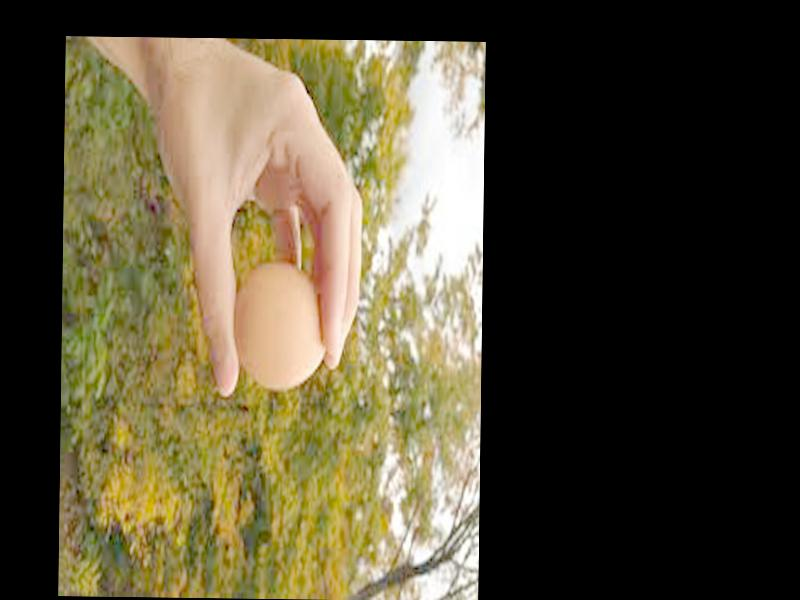Eggs: (232, 263, 328, 389)
